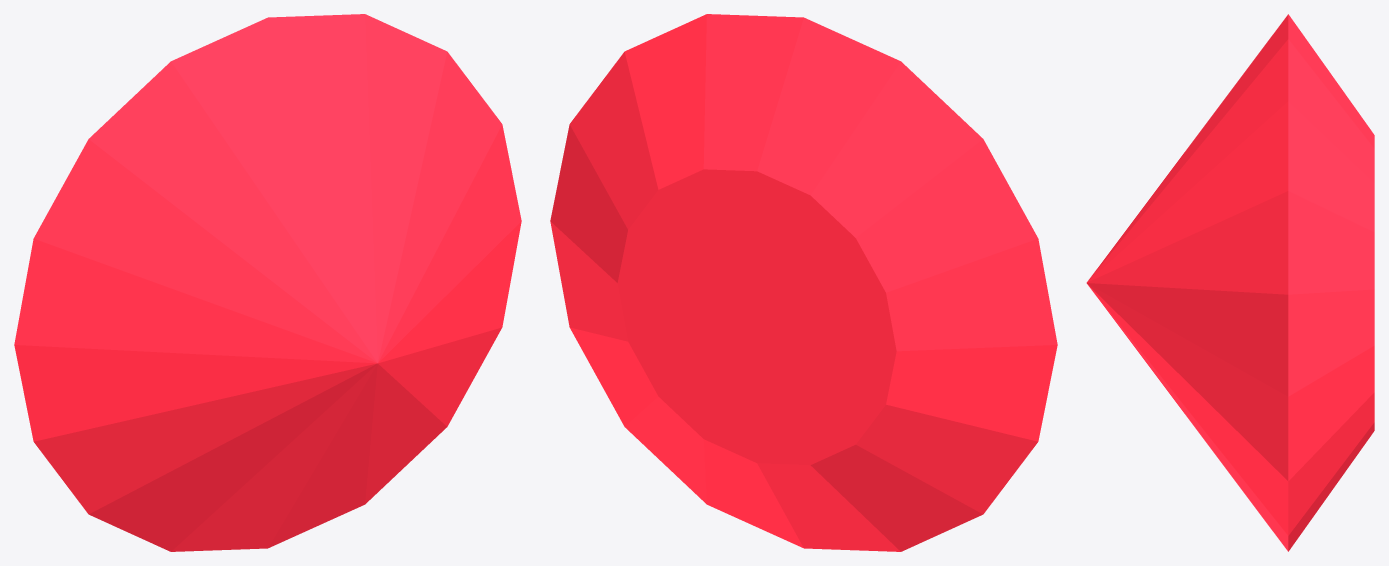
The picture shows the model from 3 angles, left to right: view 1: azimuth 30°, elevation 25°; view 2: azimuth 150°, elevation 25°; view 3: azimuth 270°, elevation 25°; orthographic projection. The views are drawn at different scales.
Parts seen in each view (by area): view 1: glow_Gem_red; view 2: glow_Gem_red; view 3: glow_Gem_red.
Part boxes in pixels (bbox=[...]): glow_Gem_red: bbox=[14, 14, 521, 551]; glow_Gem_red: bbox=[550, 14, 1057, 551]; glow_Gem_red: bbox=[1086, 14, 1374, 551].
Size of the model in its own units: 0.9 by 0.9 by 0.4815.
